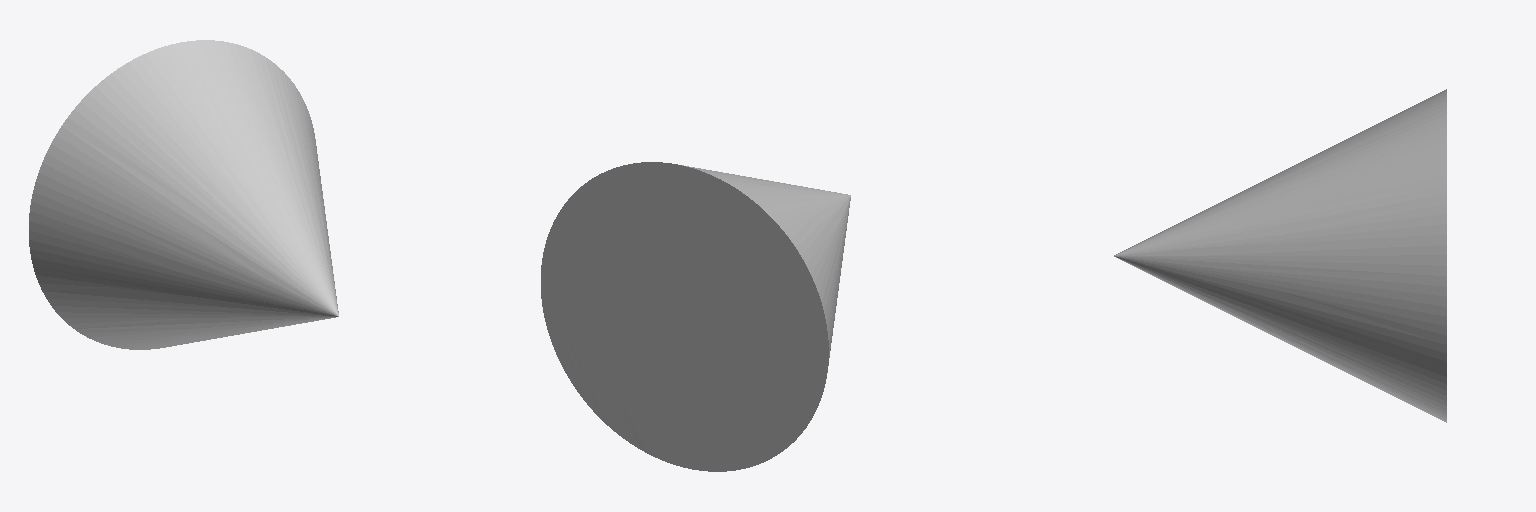
File: one.obj
The picture shows the model from 3 angles: view 1: azimuth 30°, elevation 25°; view 2: azimuth 150°, elevation 25°; view 3: azimuth 270°, elevation 25°; orthographic projection.
Parts seen in each view (by area): view 1: Object.1; view 2: Object.1; view 3: Object.1.
Part boxes in pixels (bbox=[...]): Object.1: bbox=[29, 40, 338, 349]; Object.1: bbox=[541, 162, 850, 471]; Object.1: bbox=[1114, 89, 1446, 422].
Size of the model in its own units: 1 by 0.9999 by 1.